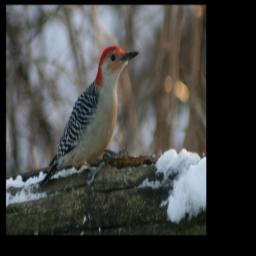Woodpecker: (40, 46, 141, 186)
